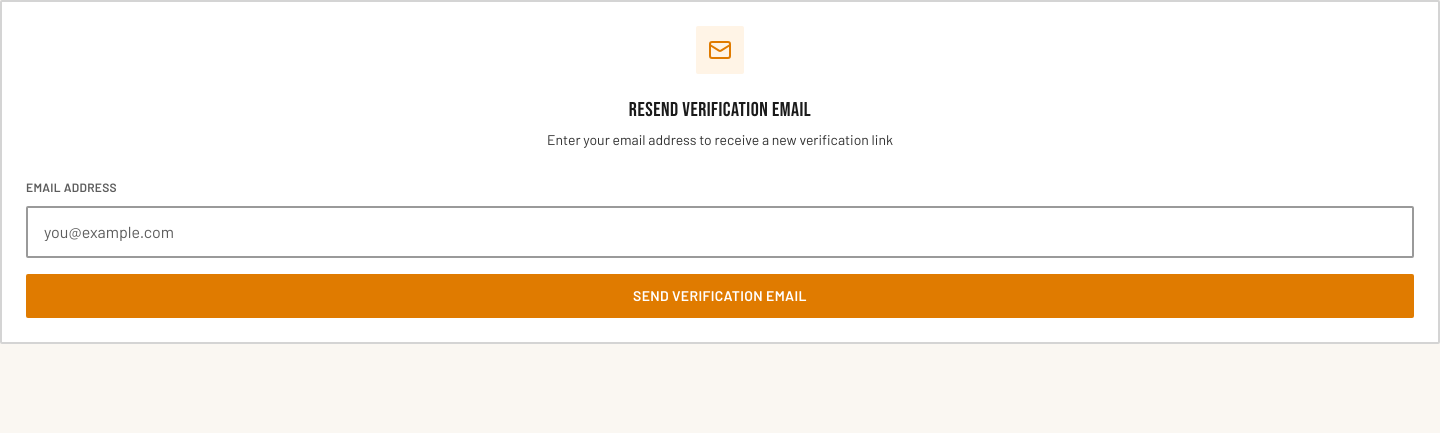
ResendVerificationForm › Form Submission - Generic Errors › should show generic error when API returns non-429 error
Type "test@example.com" into the field labelled "Email Address".
click(720, 232); type("test@example.com")  # box [26,206,1414,258]
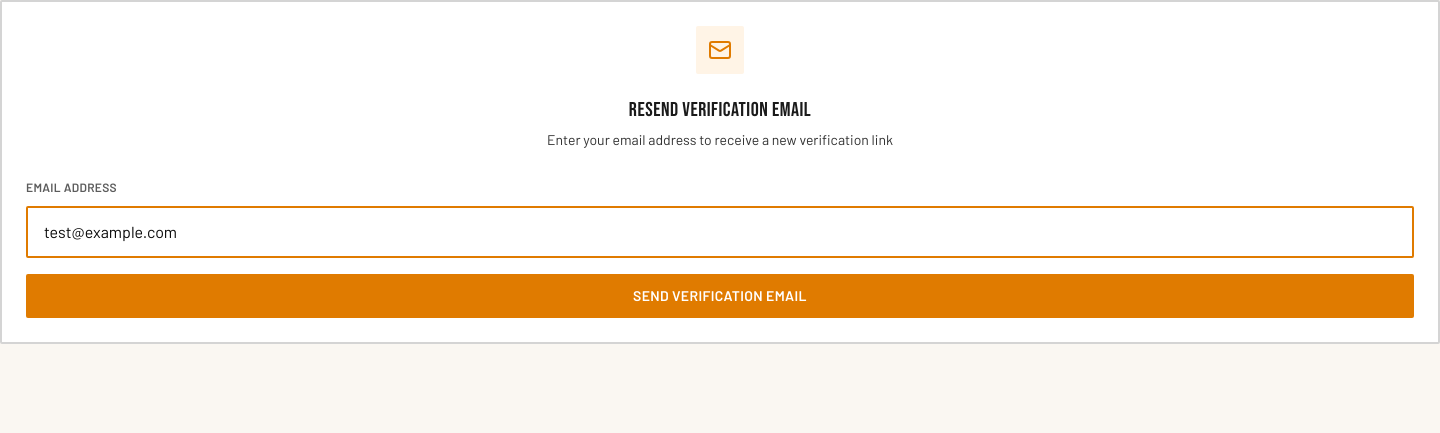
Click the button "Send verification email".
click(720, 296)  # box [26,274,1414,318]
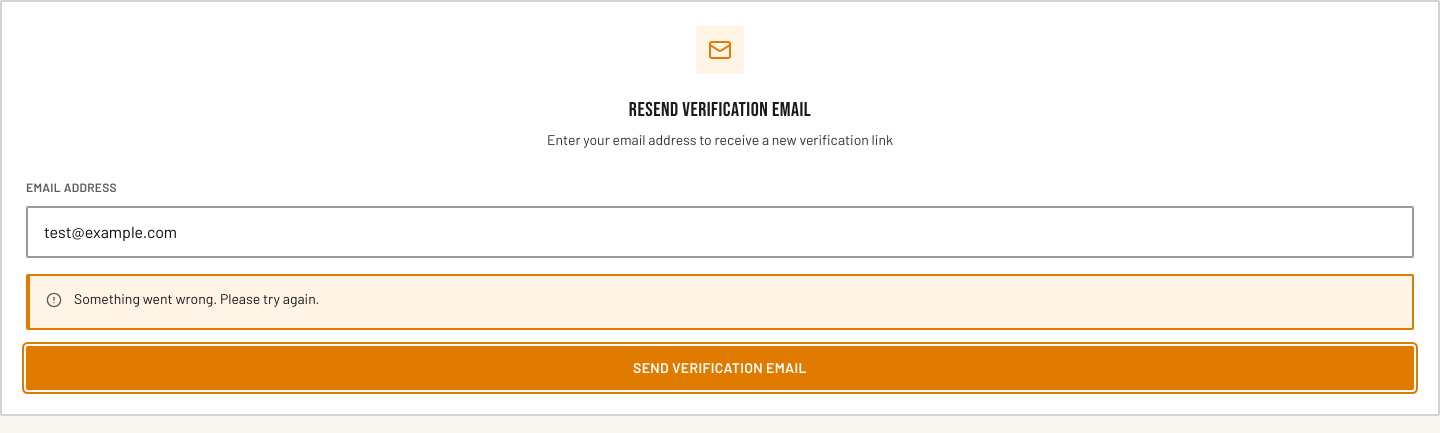
Now the text "Something went wrong. Please try again." is shown, box [74,290,319,307]
